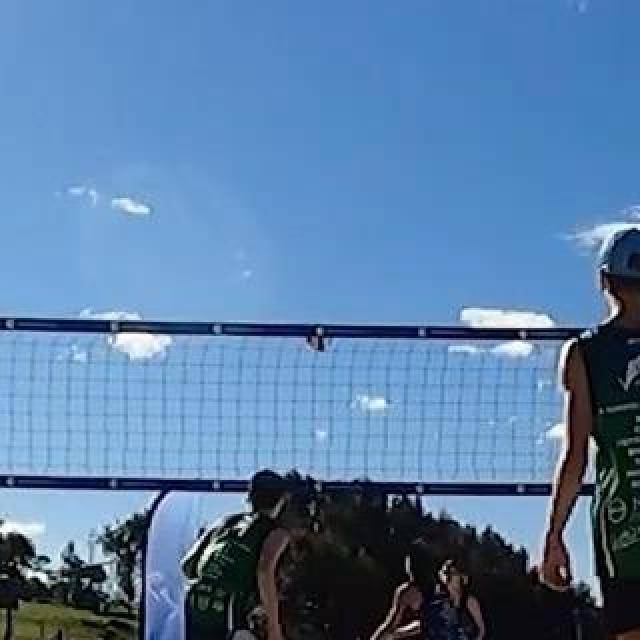volleyball: (306, 319, 338, 351)
